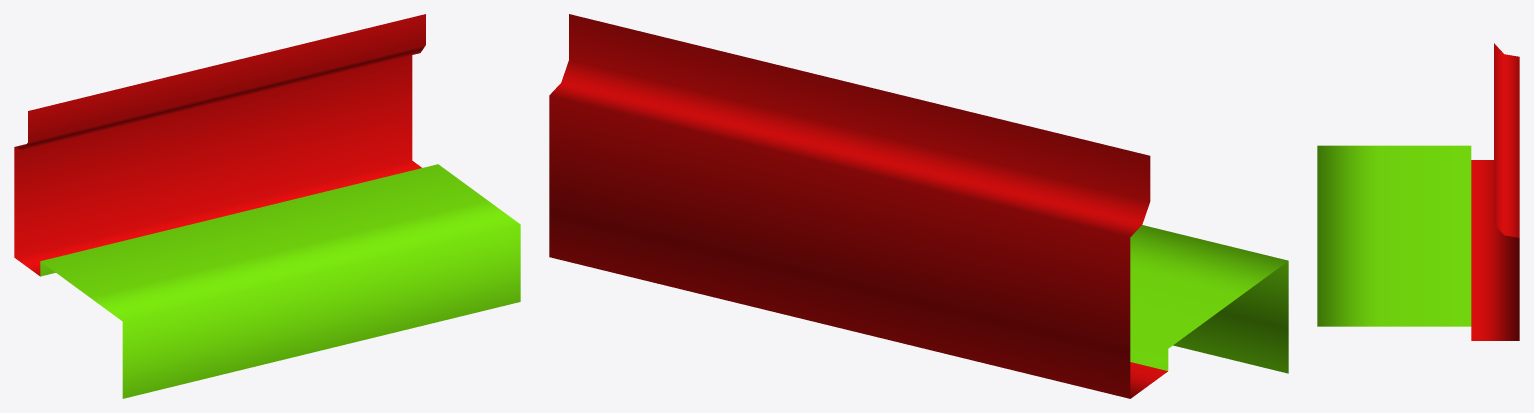
Rendered from G_Walls_01.fbx.
3 renders of one model, left to right at view 1: azimuth 30°, elevation 25°; view 2: azimuth 150°, elevation 25°; view 3: azimuth 270°, elevation 25°, orthographic. The views are drawn at different scales.
Visible parts, largest first — view 1: G_Walls_01; view 2: G_Walls_01; view 3: G_Walls_01.
Part boxes in pixels (box(x1,y1,x2,y2)): G_Walls_01: box(14, 14, 520, 398); G_Walls_01: box(549, 14, 1288, 398); G_Walls_01: box(1317, 43, 1519, 340).
Size of the model in its own units: 1058 by 555 by 499.
